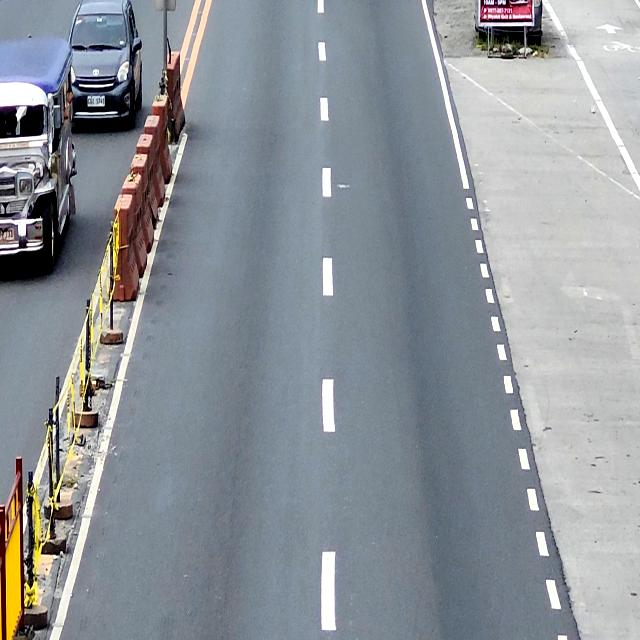Car: (67, 0, 144, 131)
Jeep: (0, 35, 77, 271)
License-Plate: (86, 95, 105, 108), (0, 228, 15, 240)
